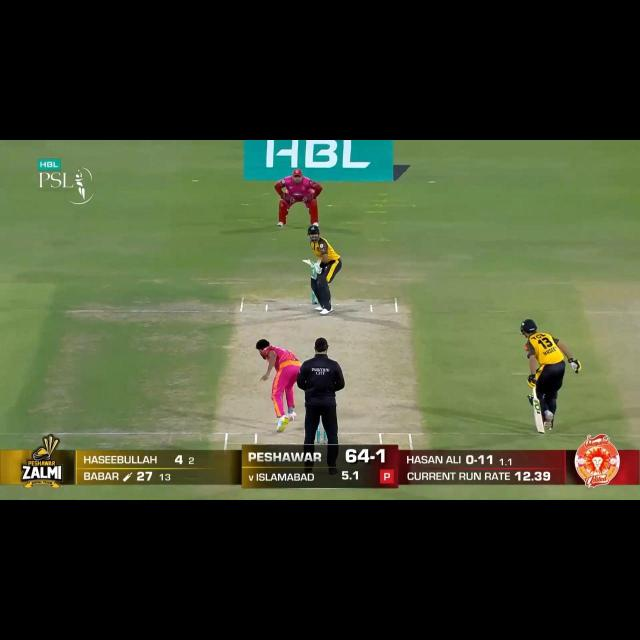bat: (530, 397, 548, 435), (302, 257, 316, 267)
toe: (534, 423, 547, 434), (301, 257, 308, 265)
